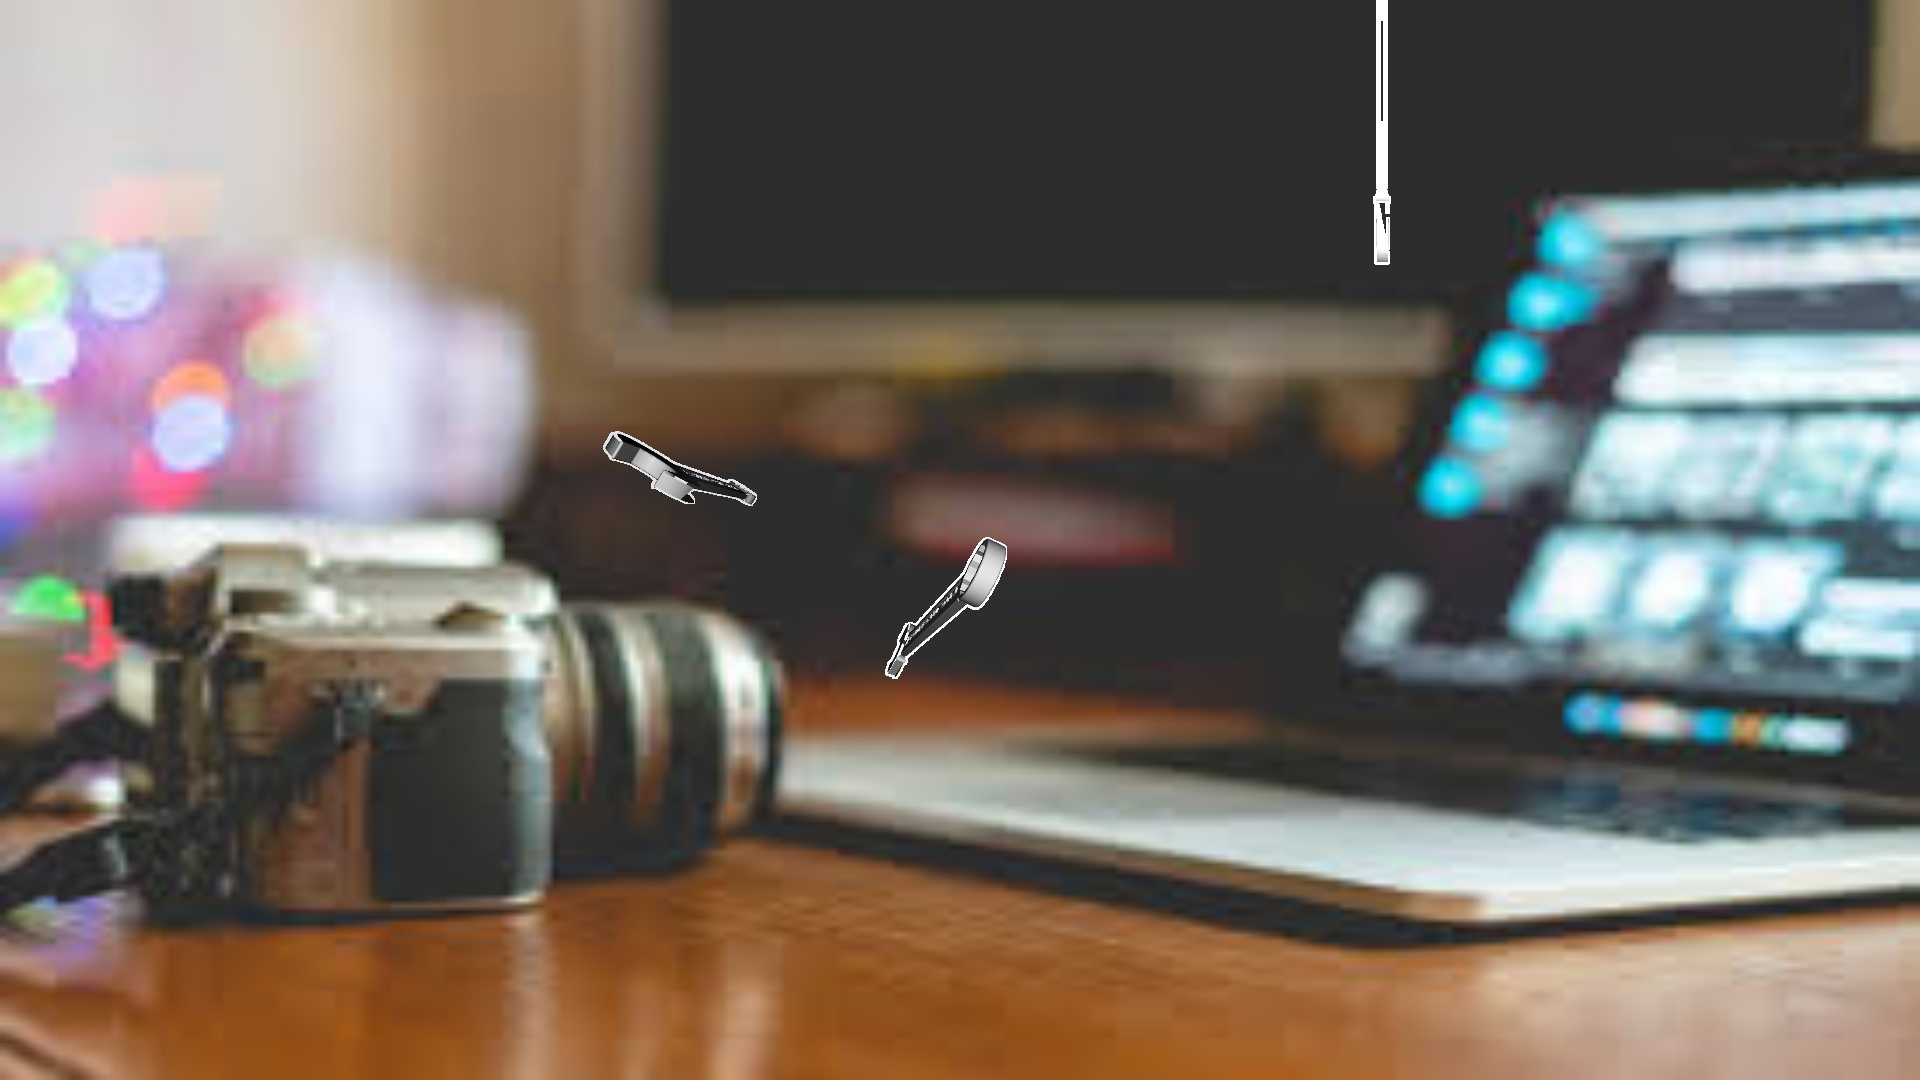Mixed Key: (885, 537, 1006, 678), (603, 431, 756, 505), (1373, 0, 1390, 264)
